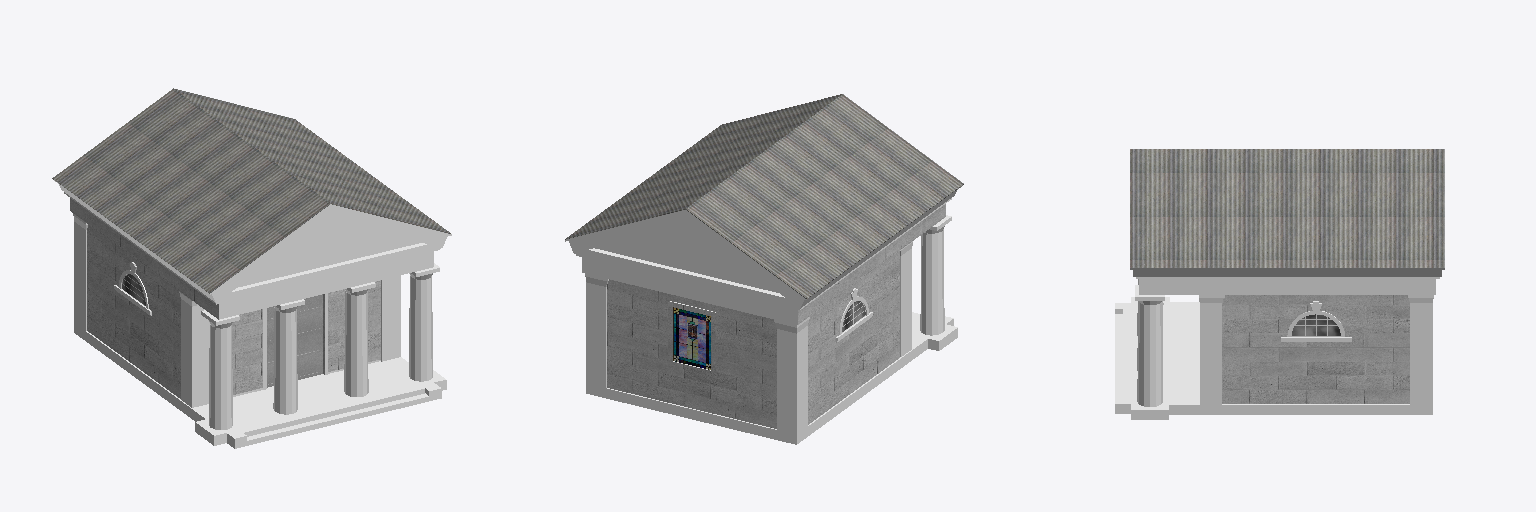
3 views of the same model, side by side, from view 1: azimuth 30°, elevation 25°; view 2: azimuth 150°, elevation 25°; view 3: azimuth 270°, elevation 25° (orthographic).
Visible parts, largest first — view 1: mesh_27, mesh_6, mesh_19, mesh_7, mesh_24, mesh_26, mesh_1, mesh_18, mesh_9; view 2: mesh_27, mesh_19, mesh_6, mesh_24, mesh_9, mesh_8, mesh_18, mesh_30, mesh_7; view 3: mesh_27, mesh_19, mesh_6, mesh_7, mesh_8, mesh_24, mesh_9, mesh_4.
Boxes of the visible parts, <box> form: mesh_27: <box>52,88,450,292</box>; mesh_6: <box>64,192,446,448</box>; mesh_19: <box>87,225,380,398</box>; mesh_7: <box>191,293,445,440</box>; mesh_24: <box>54,180,447,302</box>; mesh_26: <box>239,219,420,286</box>; mesh_1: <box>267,294,322,387</box>; mesh_18: <box>70,198,324,374</box>; mesh_9: <box>74,323,204,421</box>; mesh_27: <box>566,94,963,298</box>; mesh_19: <box>607,251,899,428</box>; mesh_6: <box>576,198,957,434</box>; mesh_24: <box>565,185,962,308</box>; mesh_9: <box>586,339,927,444</box>; mesh_8: <box>582,251,900,356</box>; mesh_18: <box>668,204,945,376</box>; mesh_30: <box>673,307,710,369</box>; mesh_7: <box>670,301,957,370</box>; mesh_27: <box>1130,149,1444,267</box>; mesh_19: <box>1222,295,1409,403</box>; mesh_6: <box>1115,277,1439,419</box>; mesh_7: <box>1115,297,1199,409</box>; mesh_8: <box>1139,279,1435,294</box>; mesh_24: <box>1130,268,1444,276</box>; mesh_9: <box>1201,404,1432,414</box>; mesh_4: <box>1292,314,1340,335</box>.
Size of the model in its own units: 223 by 189 by 262.
13 materials, 7 textured.